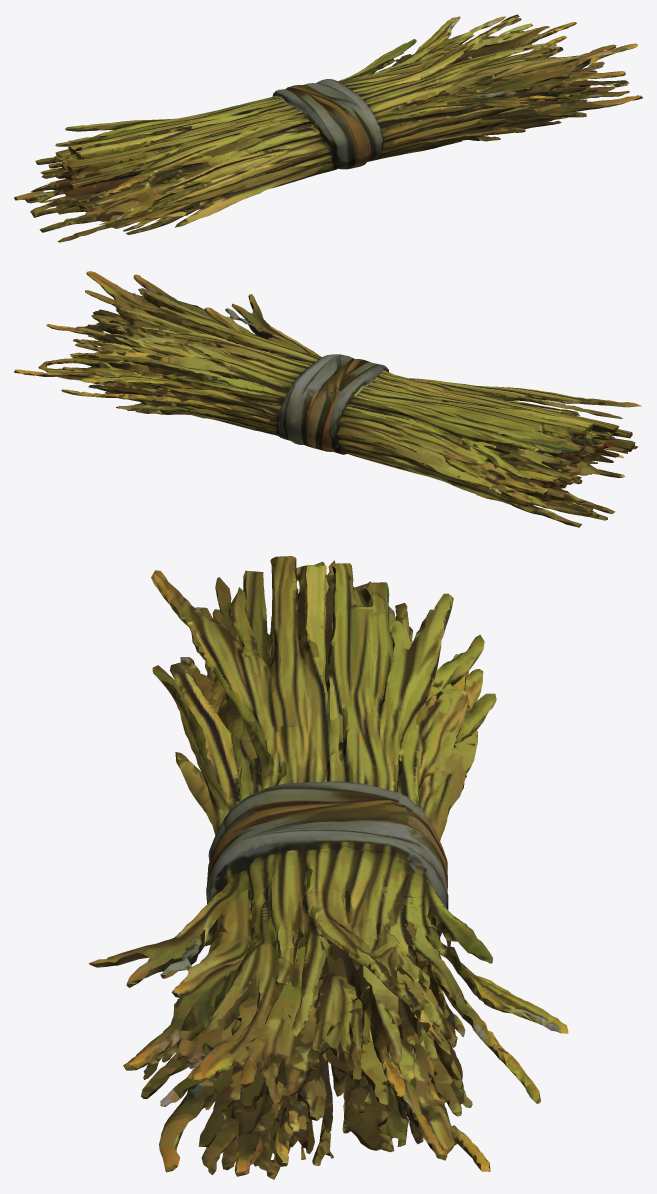
File: item_grass_fiber.glb
The picture shows the model from 3 angles, top to bottom: view 1: azimuth 30°, elevation 25°; view 2: azimuth 150°, elevation 25°; view 3: azimuth 270°, elevation 25°; orthographic projection. The views are drawn at different scales.
Parts seen in each view (by area): view 1: item_grass_fiber; view 2: item_grass_fiber; view 3: item_grass_fiber.
Boxes of the visible parts, bbox=[...] form: item_grass_fiber: bbox=[14, 14, 642, 242]; item_grass_fiber: bbox=[14, 271, 641, 527]; item_grass_fiber: bbox=[89, 556, 568, 1179].
Bounding box in the file's own units: 0.4 × 0.0622 × 0.1493.
Materials: 1 (1 with a texture image).
